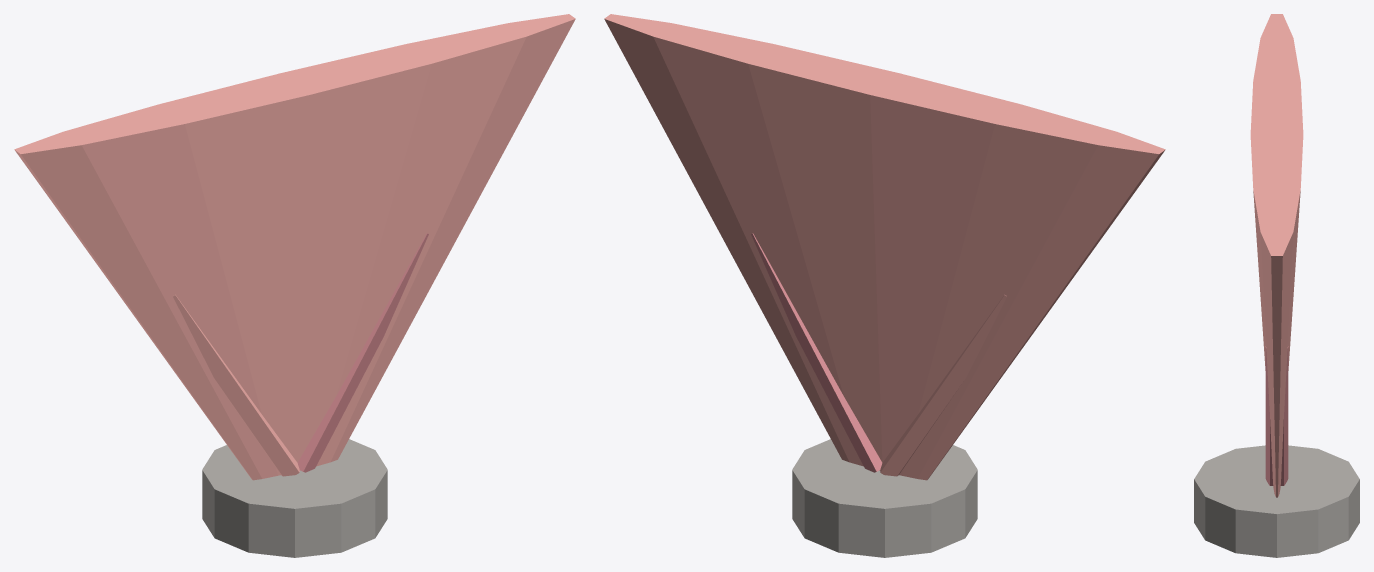
The model's file is 45-Arte3D_coral_abanico.glb.
The picture shows the model from 3 angles, left to right: view 1: azimuth 30°, elevation 25°; view 2: azimuth 150°, elevation 25°; view 3: azimuth 270°, elevation 25°; orthographic projection. The views are drawn at different scales.
Parts seen in each view (by area): view 1: SM_Coral_Abanico, SM_Coral_Base, SM_Coral_Rama_0, SM_Coral_Rama_1; view 2: SM_Coral_Abanico, SM_Coral_Base, SM_Coral_Rama_0, SM_Coral_Rama_1; view 3: SM_Coral_Abanico, SM_Coral_Base, SM_Coral_Rama_1.
Part boxes in pixels (x1=…): SM_Coral_Abanico: x1=14, y1=14, x2=575, y2=480; SM_Coral_Base: x1=202, y1=439, x2=387, y2=557; SM_Coral_Rama_0: x1=173, y1=294, x2=299, y2=476; SM_Coral_Rama_1: x1=297, y1=233, x2=428, y2=472; SM_Coral_Abanico: x1=604, y1=14, x2=1165, y2=480; SM_Coral_Base: x1=792, y1=439, x2=977, y2=557; SM_Coral_Rama_0: x1=880, y1=294, x2=1006, y2=476; SM_Coral_Rama_1: x1=751, y1=233, x2=882, y2=472; SM_Coral_Abanico: x1=1250, y1=14, x2=1303, y2=497; SM_Coral_Base: x1=1194, y1=445, x2=1359, y2=557; SM_Coral_Rama_1: x1=1265, y1=346, x2=1288, y2=485.
Size of the model in its own units: 1.66 by 1.24 by 0.48.
